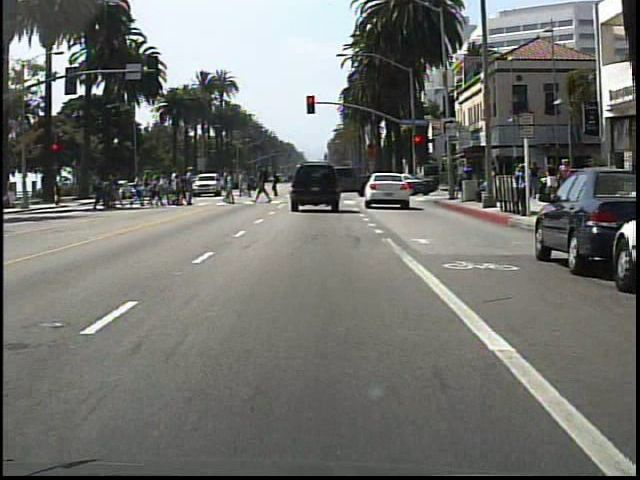person: (510, 159, 528, 216), (543, 154, 560, 201), (557, 155, 574, 201)
